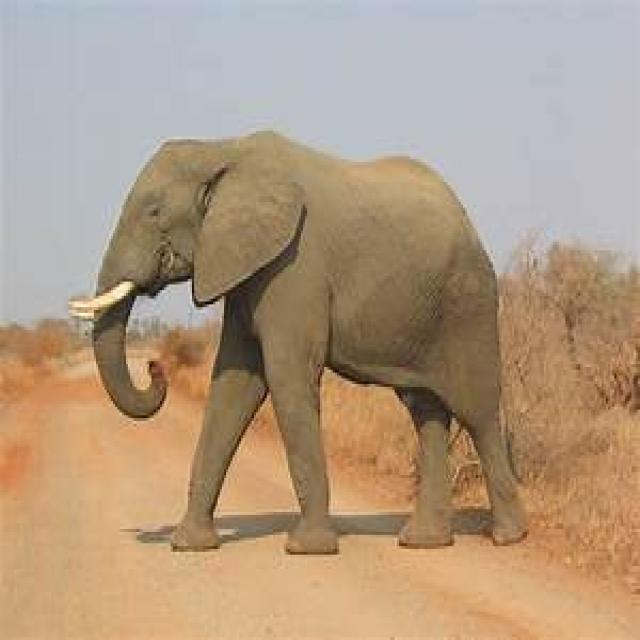elephant: (68, 131, 529, 558)
